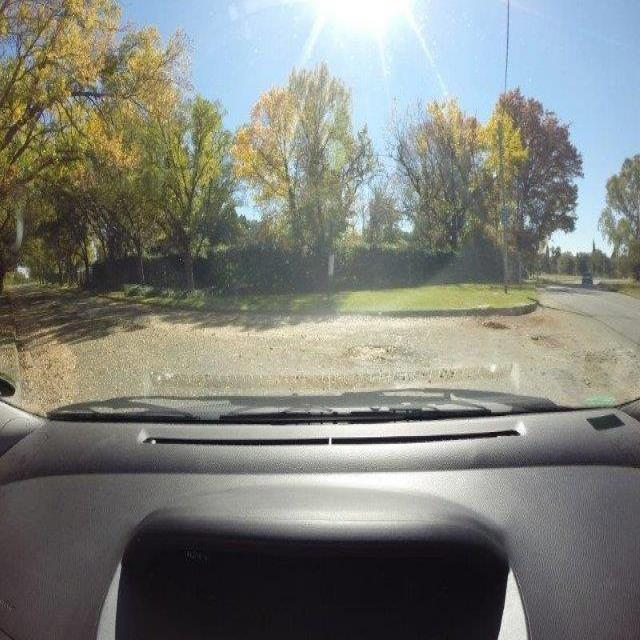lubang: (573, 340, 638, 395), (337, 339, 404, 367), (478, 316, 515, 339), (527, 332, 566, 349)
